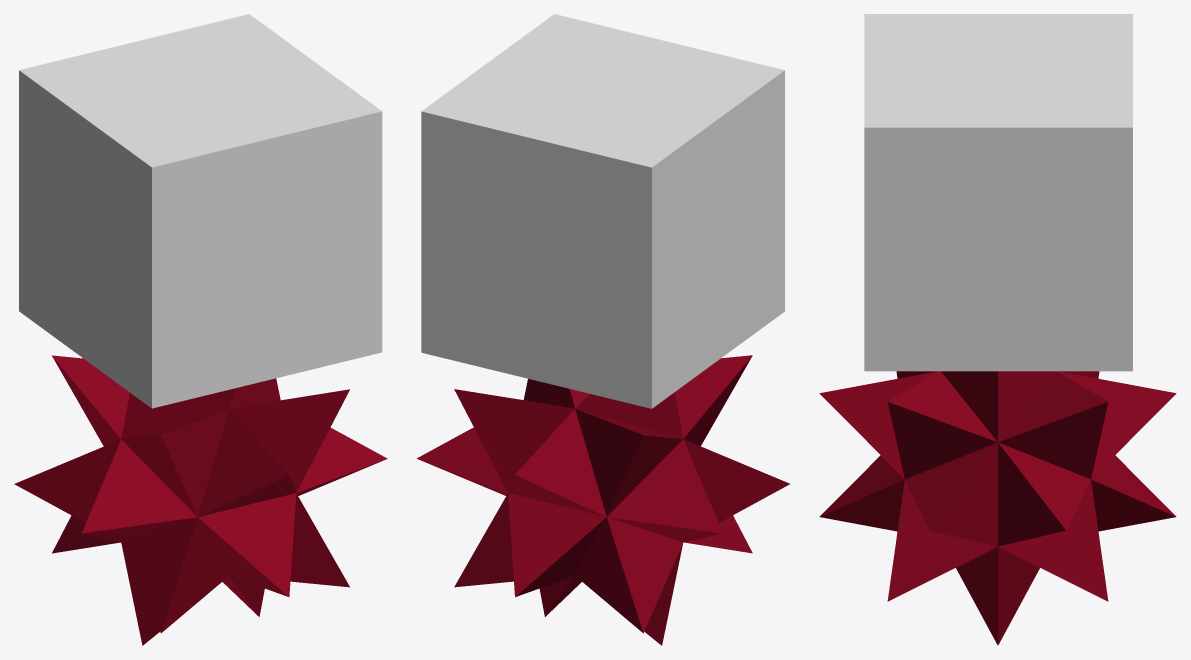
The model's file is horseman_blue1.glb.
3 renders of one model, left to right at view 1: azimuth 30°, elevation 25°; view 2: azimuth 150°, elevation 25°; view 3: azimuth 270°, elevation 25°, orthographic.
Visible parts, largest first — view 1: Cube, node_id3; view 2: Cube, node_id3; view 3: Cube, node_id3.
Part boxes in pixels (box(x1,y1,x2,y2)): Cube: box(19, 14, 382, 408); node_id3: box(14, 355, 387, 645); Cube: box(421, 14, 784, 408); node_id3: box(417, 355, 789, 645); Cube: box(864, 14, 1132, 371); node_id3: box(819, 371, 1176, 645).
Size of the model in its own units: 2.05 by 3.45 by 2.05.
2 materials, 1 textured.
